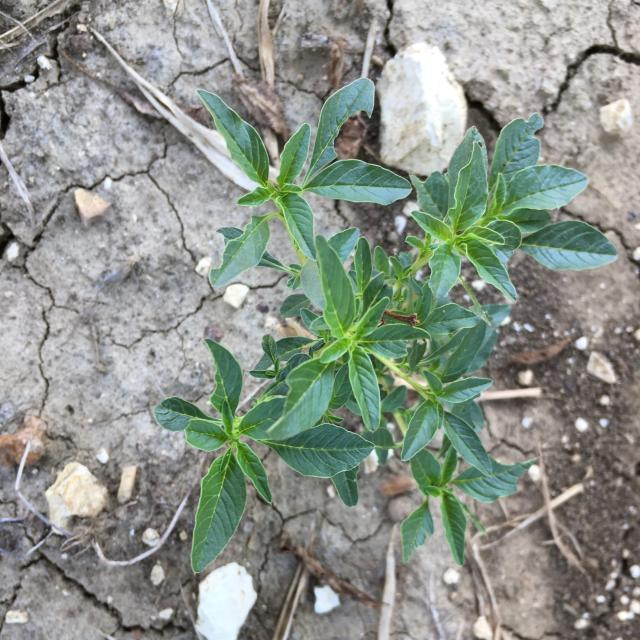Waterhemp: (154, 77, 617, 573)
